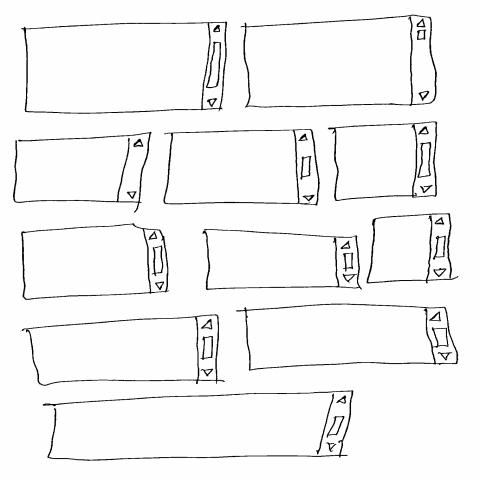Textarea: (43, 391, 354, 462), (22, 23, 228, 115), (242, 16, 437, 109), (23, 315, 228, 388), (237, 305, 459, 371), (164, 130, 320, 206), (22, 225, 171, 301), (14, 133, 152, 213), (203, 230, 363, 291), (329, 122, 438, 202), (367, 214, 459, 284)
